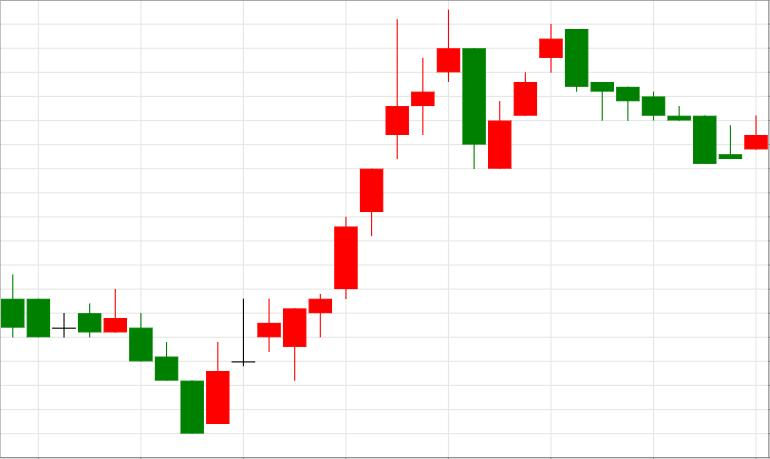shooting_star_fall: (206, 9, 460, 424), (207, 20, 408, 424)
